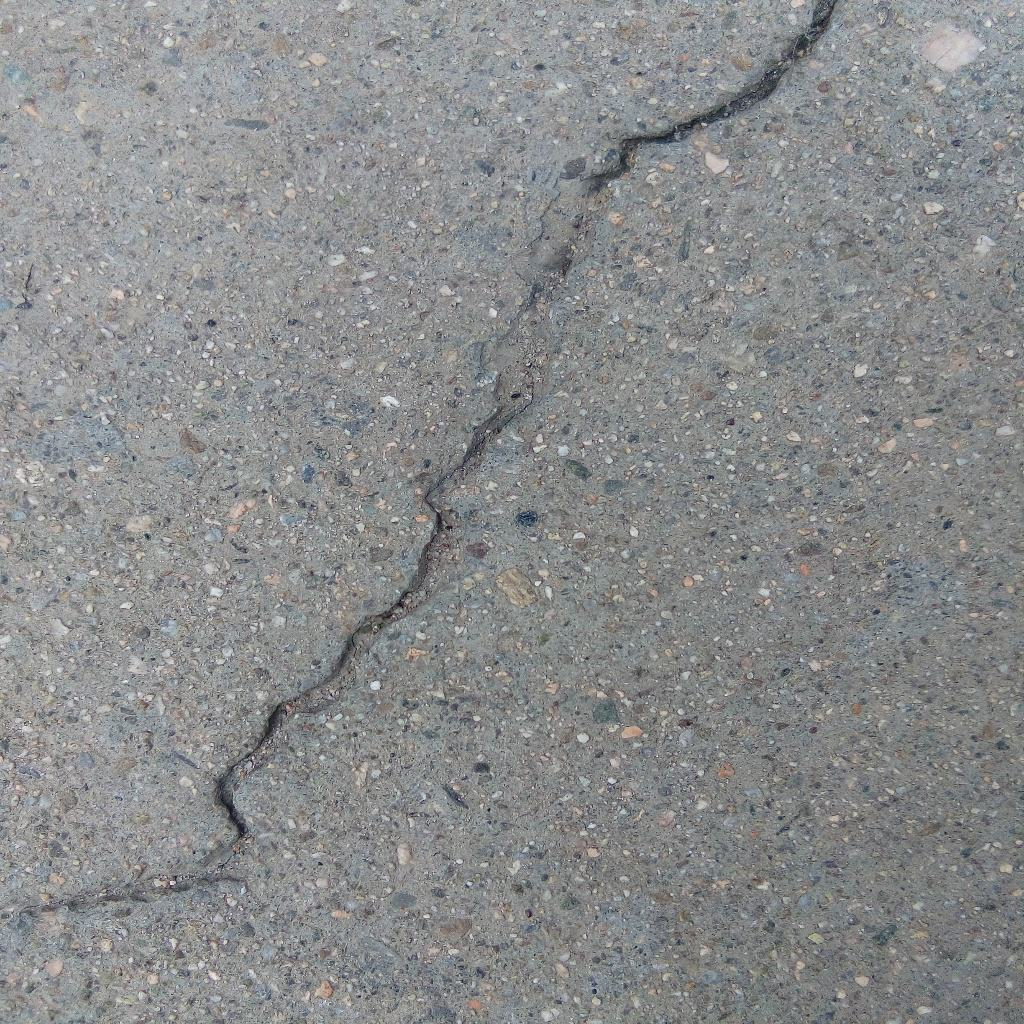Crack: (1, 1, 837, 922)
